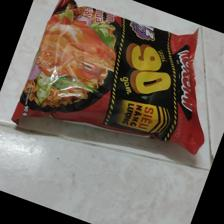Kokomi: (12, 1, 213, 160)
